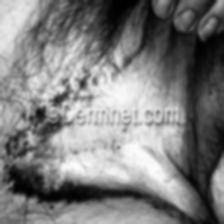Toxin: (0, 106, 86, 204)
